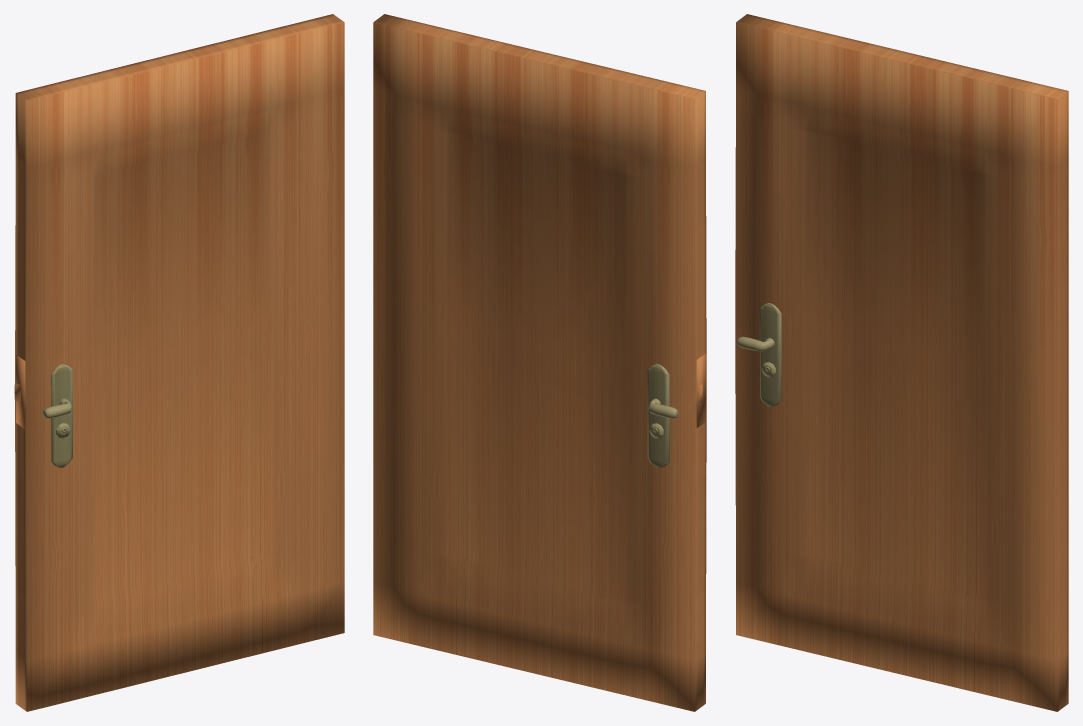
The model's file is Puerta2.obj.
The picture shows the model from 3 angles, left to right: view 1: azimuth 30°, elevation 25°; view 2: azimuth 150°, elevation 25°; view 3: azimuth 330°, elevation 25°; orthographic projection.
Parts seen in each view (by area): view 1: DoorBoddy.001_Cube.006, Locker.002_Cube.007; view 2: DoorBoddy.001_Cube.006, Locker.003_Cube.008; view 3: DoorBoddy.001_Cube.006, Locker.002_Cube.007.
Part boxes in pixels (x1=…): DoorBoddy.001_Cube.006: x1=14, y1=14, x2=344, y2=711; Locker.002_Cube.007: x1=51, y1=364, x2=72, y2=467; DoorBoddy.001_Cube.006: x1=373, y1=14, x2=706, y2=711; Locker.003_Cube.008: x1=647, y1=364, x2=669, y2=468; DoorBoddy.001_Cube.006: x1=735, y1=14, x2=1068, y2=711; Locker.002_Cube.007: x1=759, y1=303, x2=781, y2=406.
Size of the model in its own units: 1.61 by 2.91 by 0.2872.
Materials: 2 (2 with a texture image).
